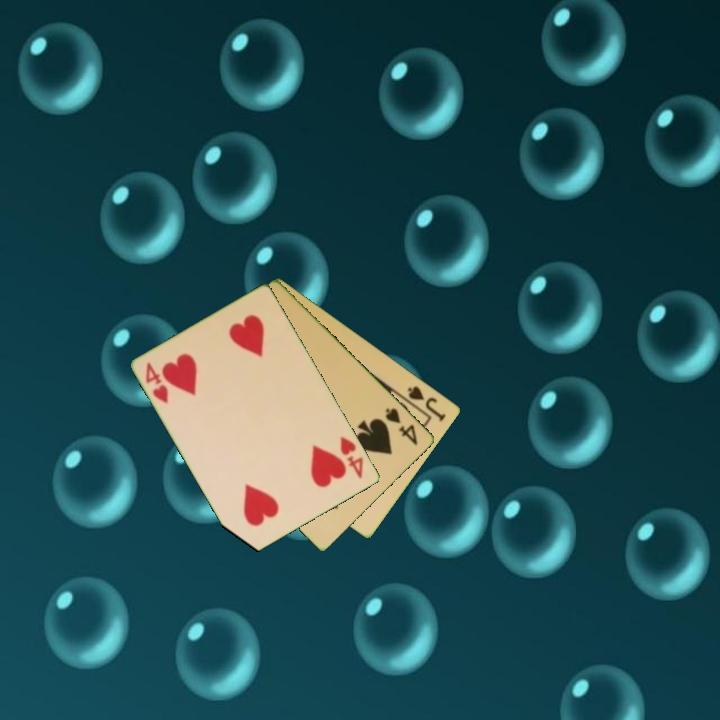4h: (337, 433, 367, 482), (142, 358, 172, 406)
4s: (382, 404, 421, 448)
Js: (404, 382, 449, 424)
